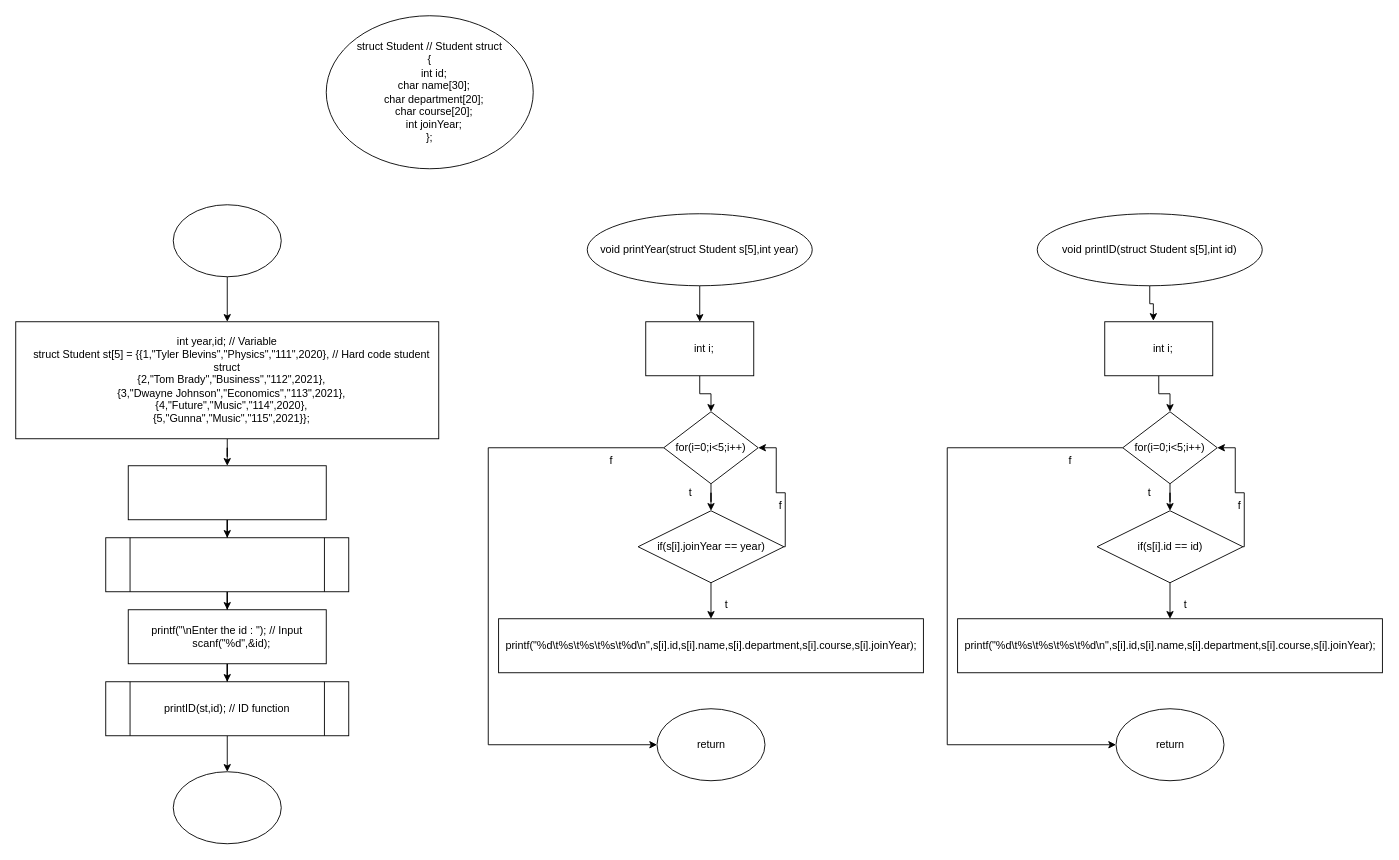
Image size: 1399x860. Some labels were removed from this diagram. The centre of each missing label's shape, as x and y in pixels:
End: (x=226, y=807)
printf("\nEnter the year : "); // Input scanf("%d",&year);: (x=226, y=492)
printYear(st,year); // Year function: (x=227, y=564)
Start: (x=226, y=240)
